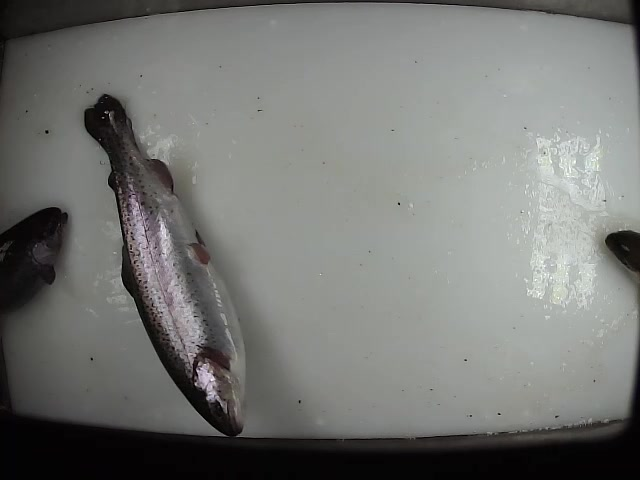fish: (83, 91, 248, 437), (1, 203, 72, 318)
